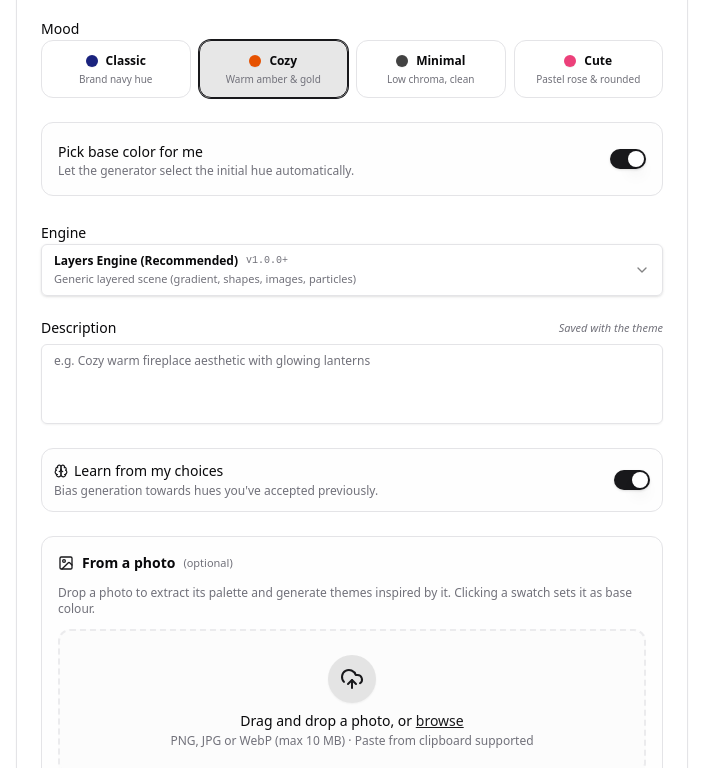
Scenario: ThemeGeneratePage Wizard › interpret chips render matched words
(page scrolled)
In the text box with placeholder "e.g. Cozy warm fireplace aesthetic with glowing lanterns": point(352, 384) [41,344,663,424], type "cozy snow cabin with lantern"
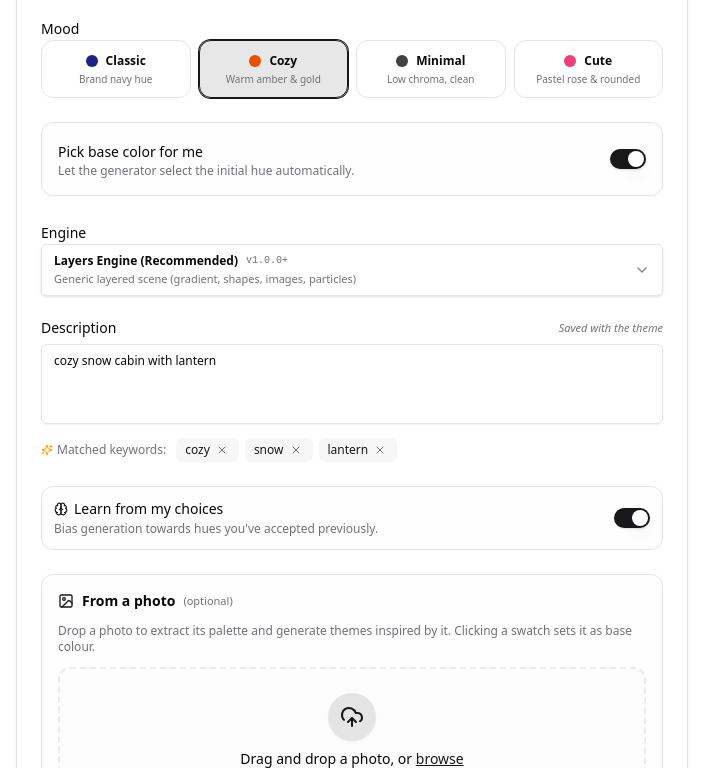
Expected: the text "cozy" is shown, [185,442,210,458]
Expected: the text "snow" is shown, [254,442,284,458]
Expected: the text "lantern" is shown, [328,442,368,458]
